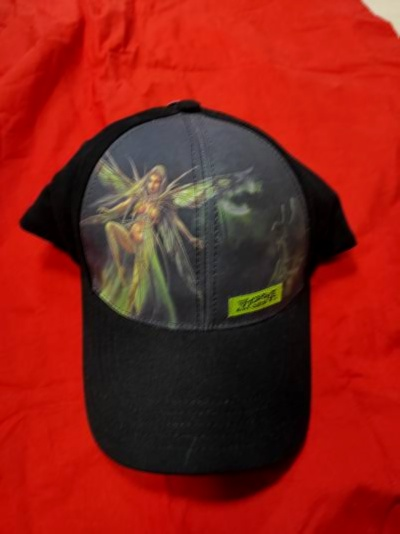Hat: (6, 75, 379, 488)
